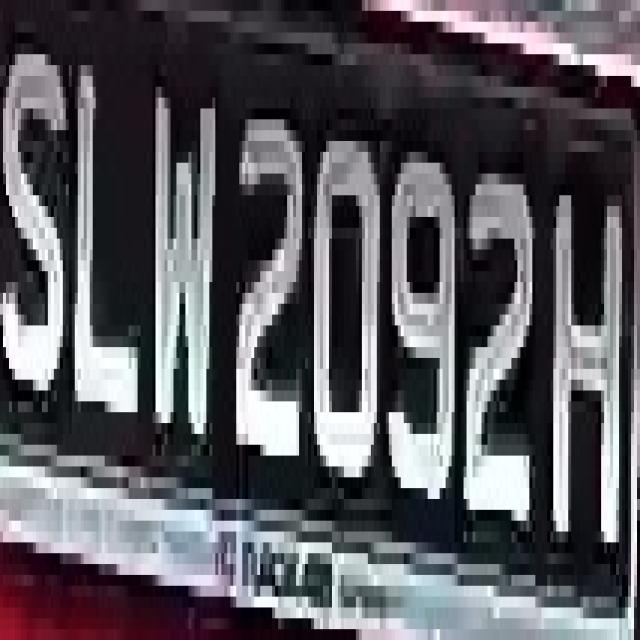0: (311, 98, 383, 488)
2: (230, 87, 305, 488), (467, 152, 532, 542)
9: (386, 130, 466, 510)
H: (550, 141, 622, 586)
L: (75, 32, 146, 444)
S: (9, 32, 72, 444)
W: (144, 54, 227, 488)
